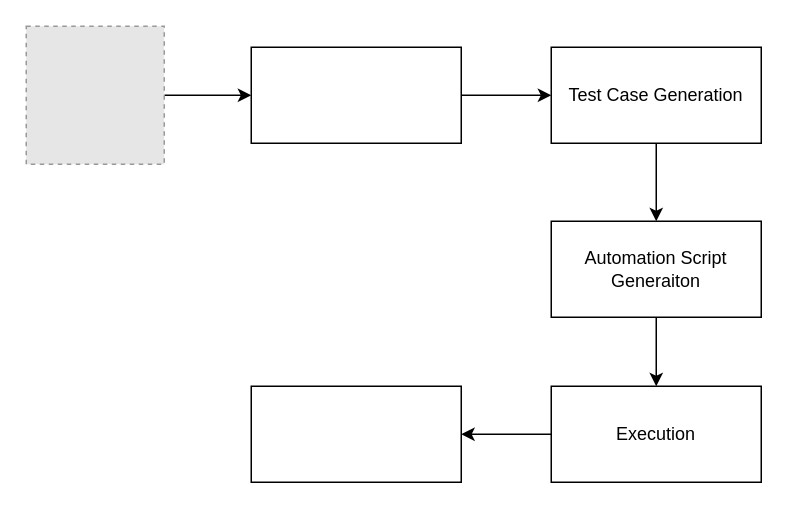
Image size: 788x509. Some labels were removed from this diagram. Grey dashed boxes stand in for pictures. Each missing label, with the centre of its shape:
"Ingestion & Analysis" goes at (355,94).
"Reporting" goes at (355,433).
